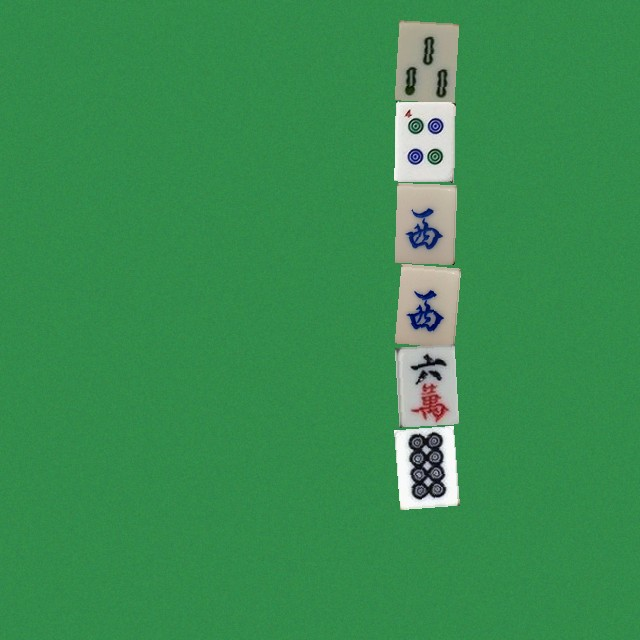tile: (394, 20, 454, 100), (394, 101, 454, 181), (394, 182, 454, 262), (394, 263, 454, 343), (394, 344, 454, 424), (394, 425, 454, 505)
